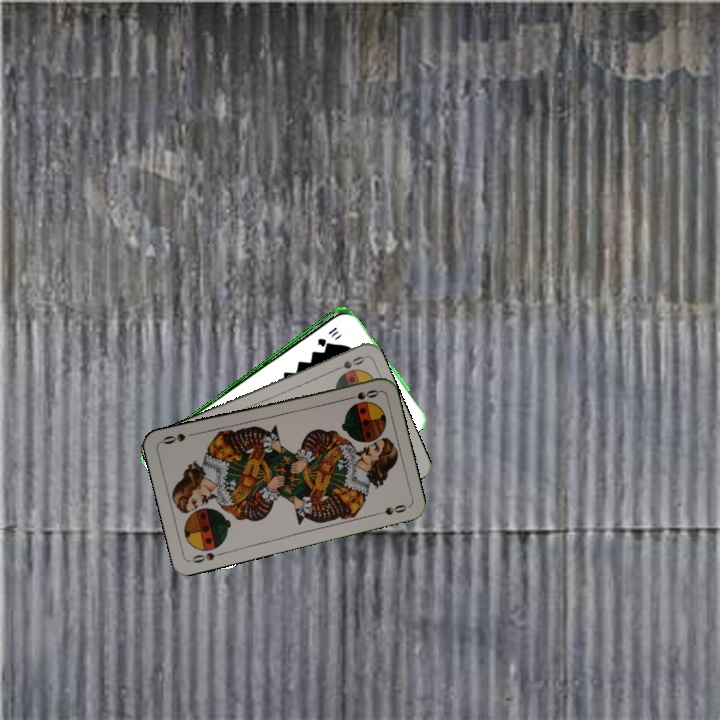G10: (313, 323, 340, 348)
SO: (328, 352, 367, 375), (341, 385, 381, 403), (188, 548, 227, 566)
